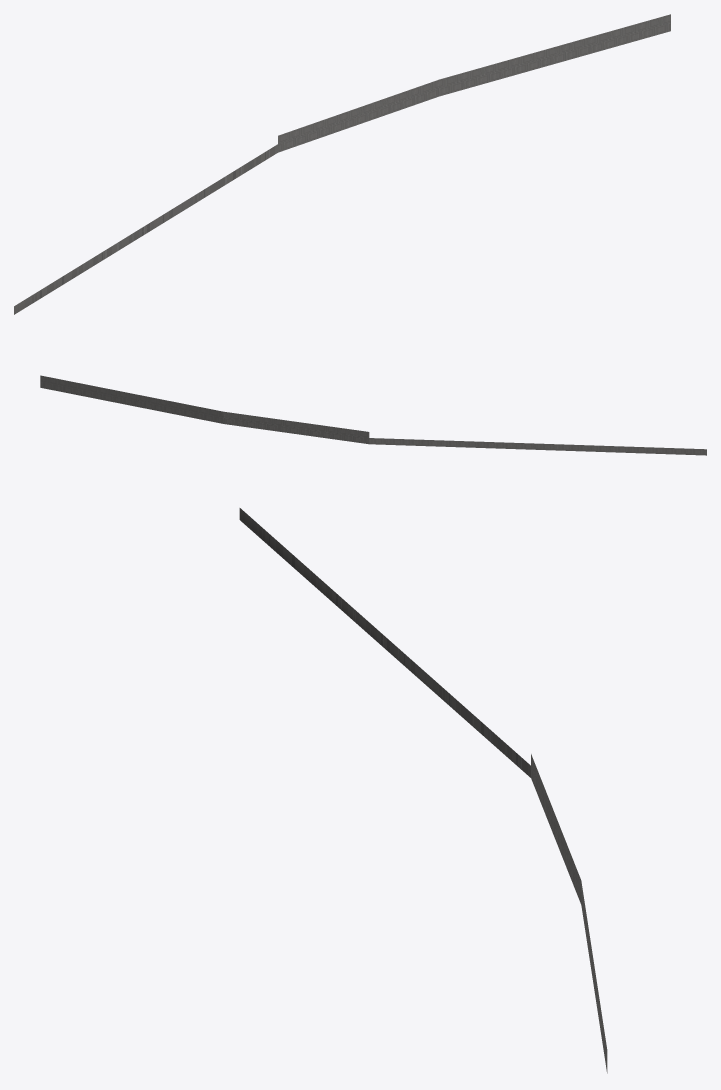
Rendered from kd_stage_135b75_0_4.glb.
3 views of the same model, one above another, from view 1: azimuth 30°, elevation 25°; view 2: azimuth 150°, elevation 25°; view 3: azimuth 270°, elevation 25° (orthographic). The views are drawn at different scales.
Parts seen in each view (by area): view 1: kd_stage_135b75_0_4; view 2: kd_stage_135b75_0_4; view 3: kd_stage_135b75_0_4.
Part boxes in pixels (<box>): kd_stage_135b75_0_4: <box>14,14,670,314</box>; kd_stage_135b75_0_4: <box>40,375,706,455</box>; kd_stage_135b75_0_4: <box>239,508,607,1073</box>.
Bounding box in the file's own units: 48.28 × 1 × 18.13.
1 material, 1 textured.
